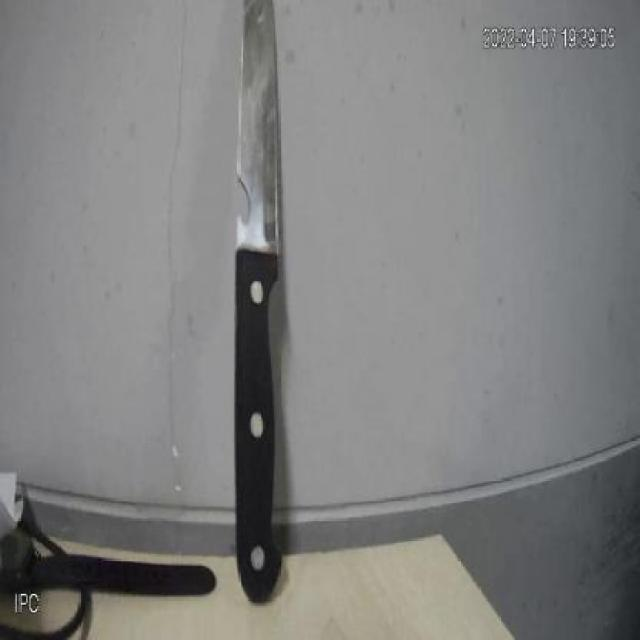-: (220, 0, 318, 600)
